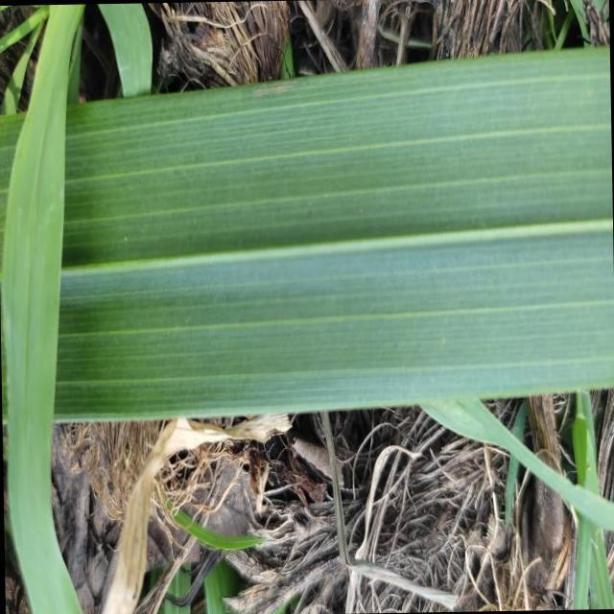Healthy: (0, 48, 614, 421)
